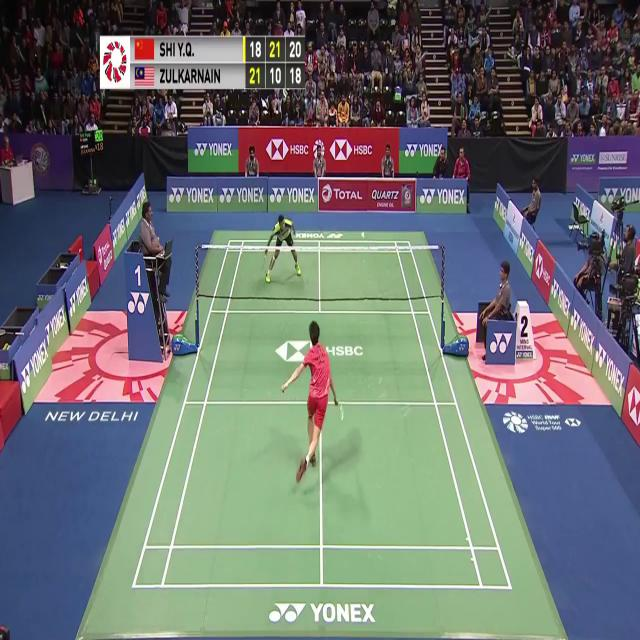Shuttlecock: (359, 230, 366, 241)
